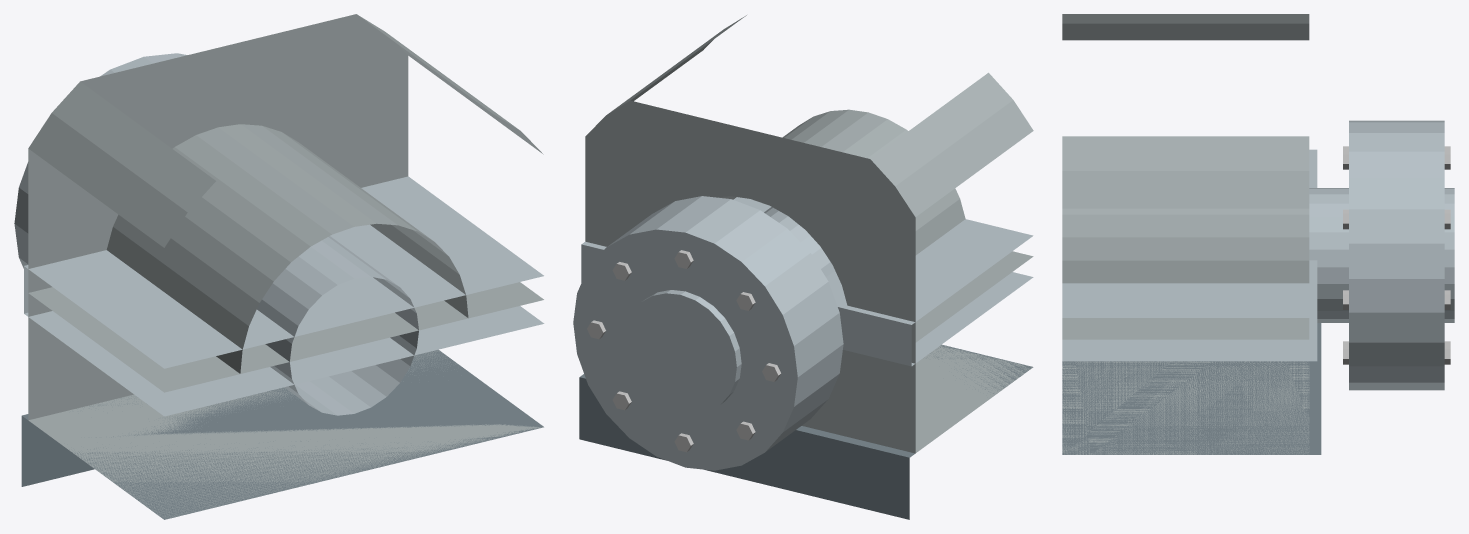
The model's file is cell_92.obj.
3 renders of one model, left to right at view 1: azimuth 30°, elevation 25°; view 2: azimuth 150°, elevation 25°; view 3: azimuth 270°, elevation 25°, orthographic. The views are drawn at different scales.
Bounding box in the file's own units: 1 × 1 × 0.985.
